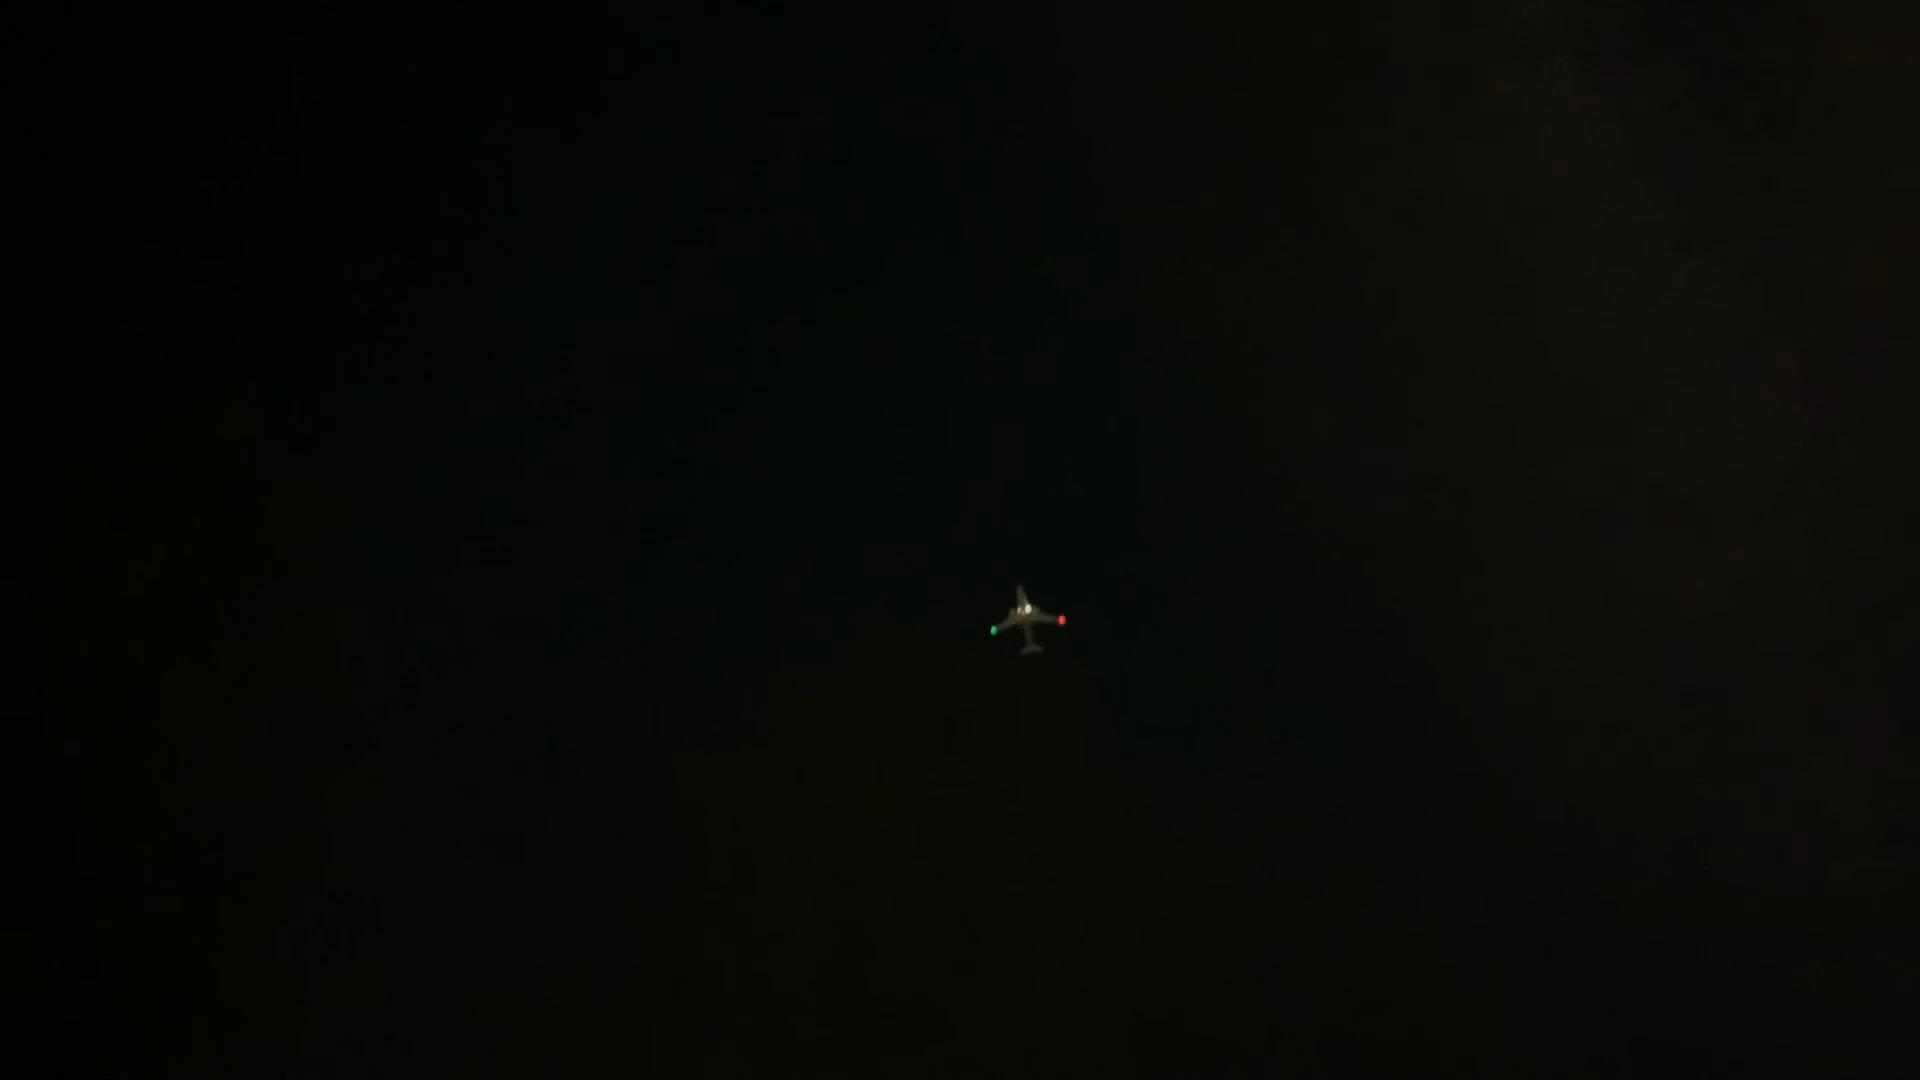Plane: (932, 560, 1129, 676)
